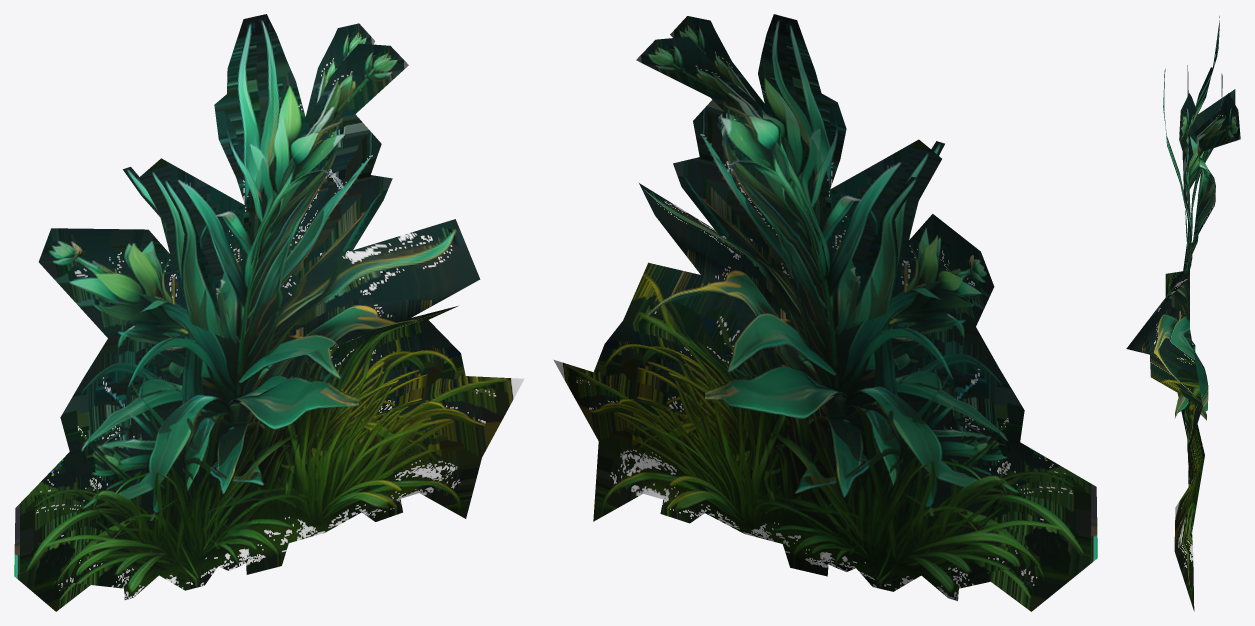
The model's file is pond_plants.glb.
3 views of the same model, side by side, from view 1: azimuth 30°, elevation 25°; view 2: azimuth 150°, elevation 25°; view 3: azimuth 270°, elevation 25° (orthographic). The views are drawn at different scales.
Visible parts, largest first — view 1: grass_01_Plants_0; view 2: grass_01_Plants_0; view 3: grass_01_Plants_0.
Part boxes in pixels (<box>): grass_01_Plants_0: <box>14,14,524,611</box>; grass_01_Plants_0: <box>553,14,1097,611</box>; grass_01_Plants_0: <box>1126,16,1240,611</box>.
Bounding box in the file's own units: 1.17 × 1.17 × 0.2412.
Materials: 1 (1 with a texture image).
